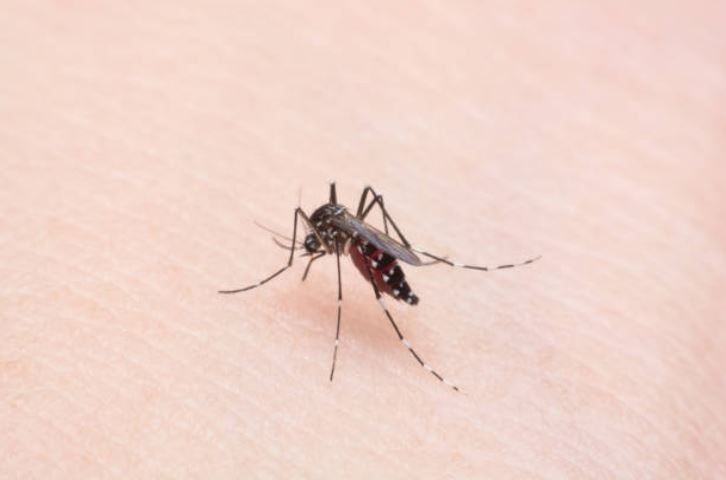dengue_mosquito: (253, 181, 468, 395)
